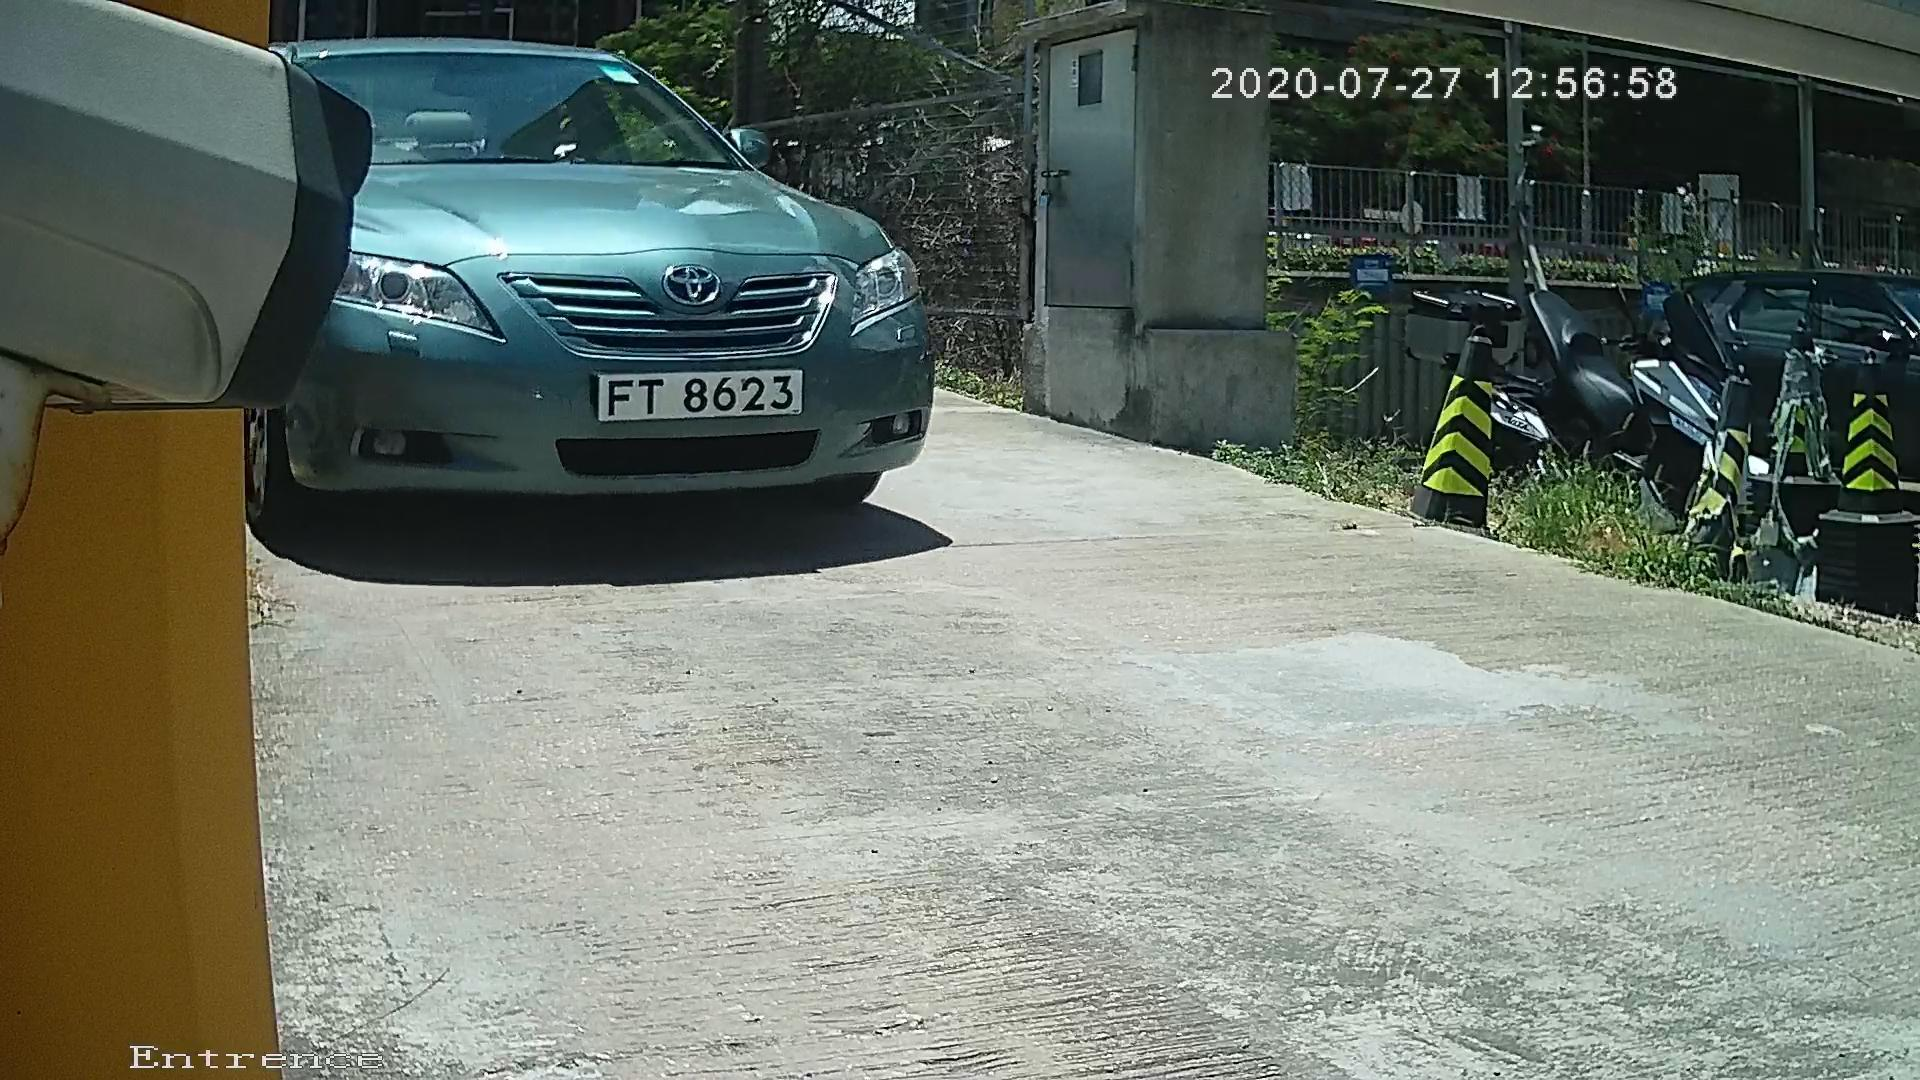Car: (163, 1, 986, 569)
License Plate: (592, 352, 798, 434)
